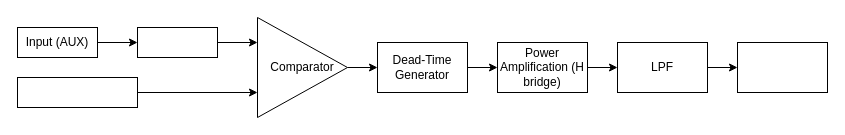
Some shapes in this 845 by 135 pixel diagram are drawn without their labels. Here are the shapes that lost their labels. From the top down, the centre of each, then its label:
At point (177, 42): "Pre-amp".
At point (782, 67): "Speaker".
At point (77, 92): "Triangle/Sawtooth".
